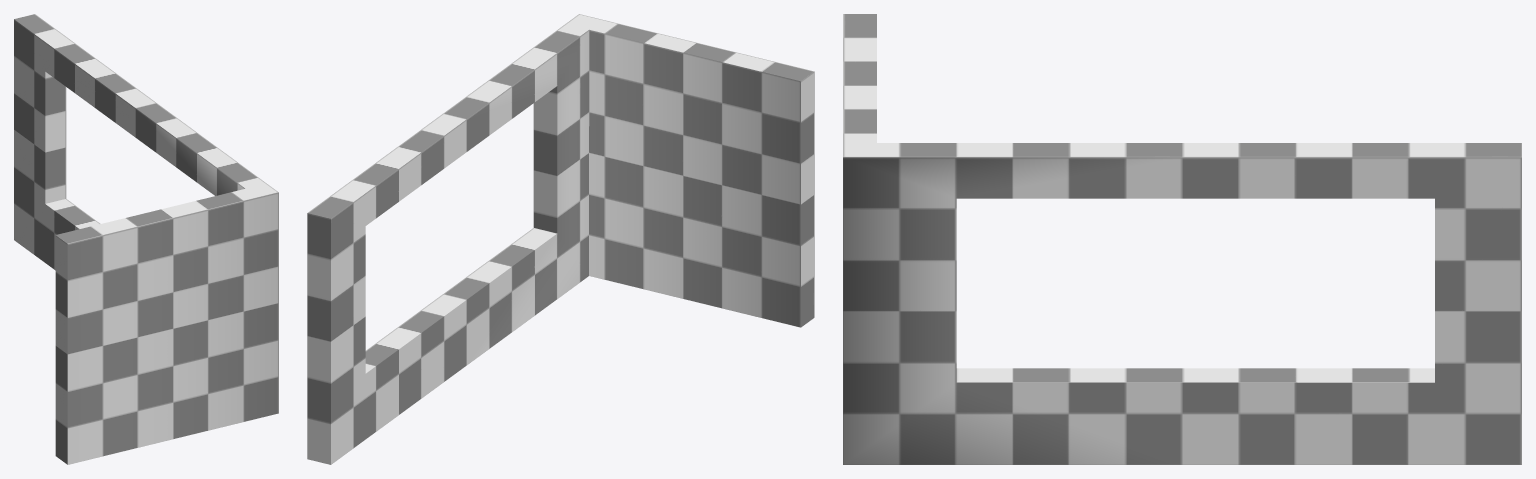
The model's file is ResuplyWindow.fbx.
3 views of the same model, side by side, from view 1: azimuth 30°, elevation 25°; view 2: azimuth 150°, elevation 25°; view 3: azimuth 270°, elevation 25° (orthographic). The views are drawn at different scales.
Visible parts, largest first — view 1: ResuplyWindow; view 2: ResuplyWindow; view 3: ResuplyWindow.
Part boxes in pixels (<box>): ResuplyWindow: <box>14,14,278,464</box>; ResuplyWindow: <box>307,14,814,464</box>; ResuplyWindow: <box>843,14,1521,464</box>.
Size of the model in its own units: 118 by 236 by 118.
1 material, 1 textured.
